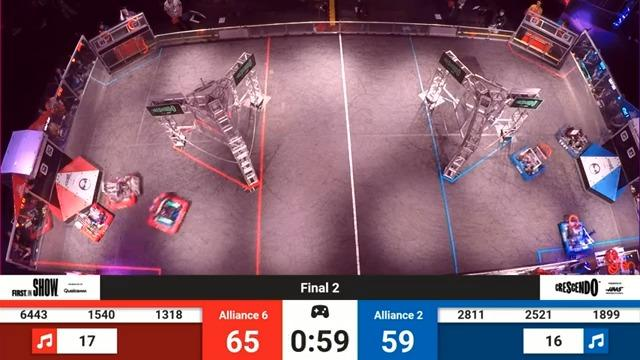robot: (146, 186, 196, 243), (72, 202, 122, 244), (554, 209, 598, 256), (509, 142, 548, 186), (105, 173, 142, 214), (553, 121, 591, 156)
